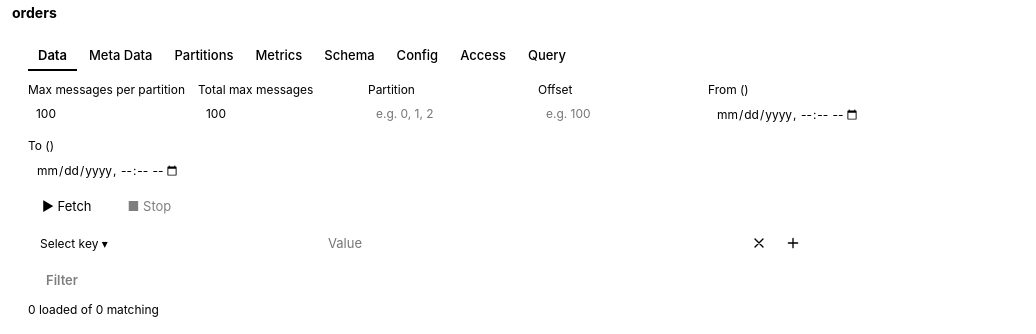
Test: TopicDetailPanel › switches to the Config tab when clicked, listing the broker's settings for the topic
This screenshot has width=1036, height=334.
Click the tab "Config".
click(417, 56)  # box [387,41,448,71]
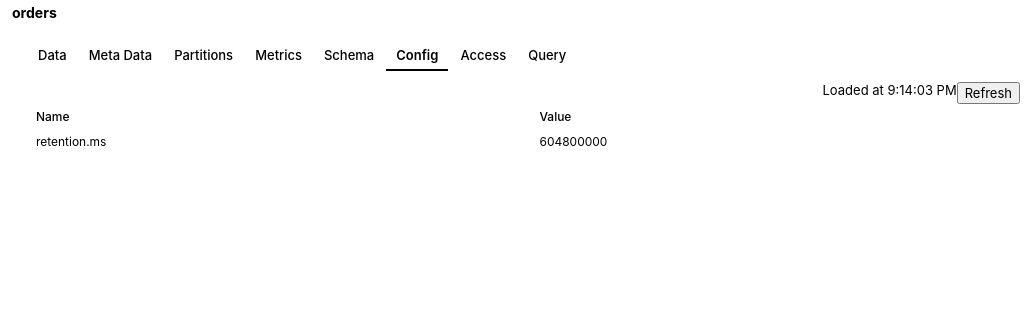
Expected: the text "retention.ms" is shown, [28,129,532,154]
Expected: the text "604800000" is shown, [532,129,1020,154]
